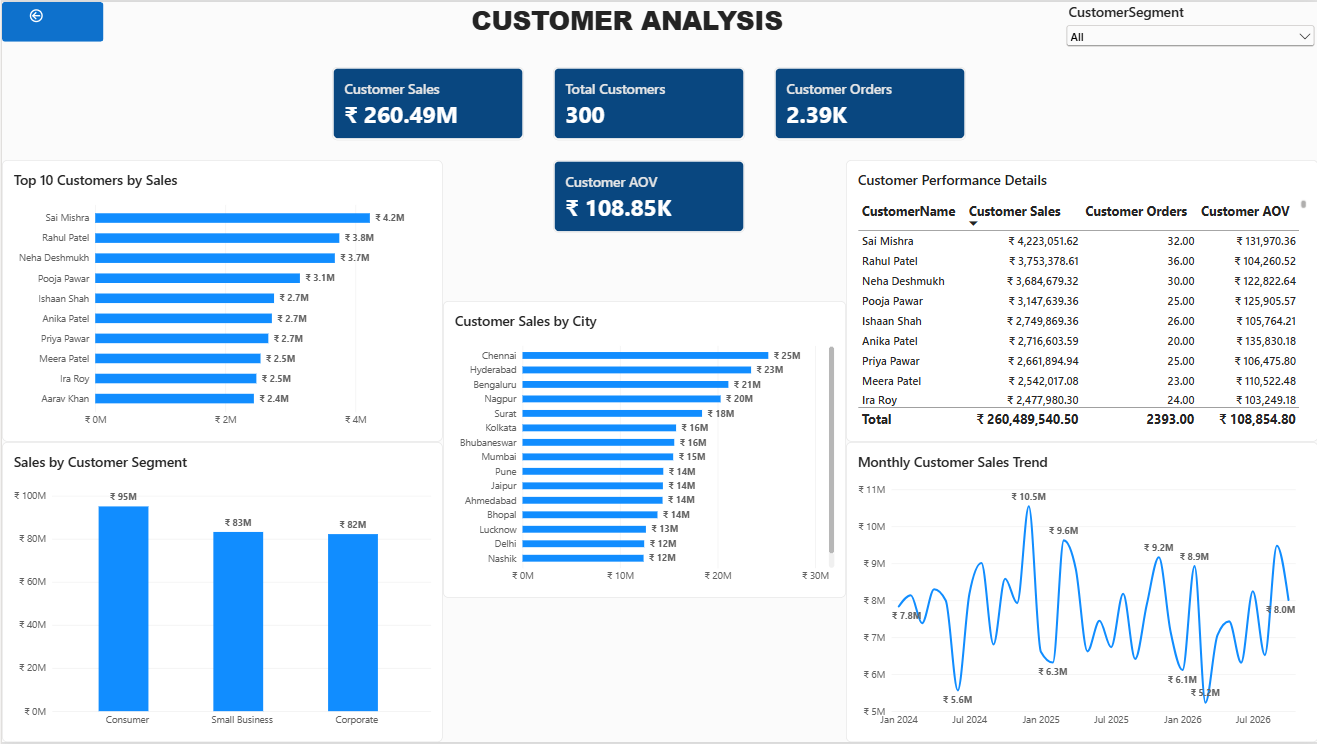

The page's visual inventory and layout, read from the dashboard file:
{"tool":"powerbi","page":{"name":"Customer Analysis","canvas":[1920,1080],"ordinal":2},"visuals":[{"type":"cardVisual","fields":{"Data":["Customers.Total Customers"]},"box":[803.9,94.8,280.1,106.5],"z":0},{"type":"cardVisual","fields":{"Data":["Customers.Customer Sales"]},"box":[481.5,94.8,280.1,106.5],"z":1000},{"type":"cardVisual","fields":{"Data":["Customers.Customer Orders"]},"box":[1126.3,94.8,280.1,106.5],"z":2000},{"type":"cardVisual","fields":{"Data":["Customers.Customer AOV"]},"box":[803.9,230.5,280.1,106],"z":3000},{"type":"clusteredBarChart","title":"Top 10 Customers by Sales","fields":{"Category":["Customers.CustomerName"],"Y":["Customers.Customer Sales"]},"box":[0,230.5,643.4,411.4],"z":4000},{"type":"tableEx","title":"Customer Performance Details","fields":{"Values":["Customers.CustomerName","Customers.Customer Sales","Customers.Customer Orders","Customers.Customer AOV"]},"box":[1231.4,230.5,688.6,411.4],"z":5000},{"type":"slicer","fields":{"Values":["Customers.CustomerSegment"]},"box":[1548,0,372,106.5],"z":6000},{"type":"clusteredColumnChart","title":"Sales by Customer Segment","fields":{"Category":["Customers.CustomerSegment"],"Y":["Customers.Customer Sales"]},"box":[0,641.9,643.4,437.7],"z":7000},{"type":"textbox","box":[621.5,0,580.7,54],"z":8000},{"type":"lineChart","title":"Monthly Customer Sales Trend","fields":{"Category":["Orders.OrderDate.Variation.Date Hierarchy.Year","Orders.OrderDate.Variation.Date Hierarchy.Quarter","Orders.OrderDate.Variation.Date Hierarchy.Month","Orders.OrderDate.Variation.Date Hierarchy.Day"],"Y":["Customers.Customer Sales"]},"box":[1231.4,641.9,688.6,437.7],"z":9000},{"type":"clusteredBarChart","title":"Customer Sales by City","fields":{"Category":["Customers.City"],"Y":["Customers.Customer Sales"]},"box":[643.4,436.2,588,433.3],"z":9001},{"type":"actionButton","box":[0,0,148,58],"z":9002},{"type":"actionButton","box":[0,0,100,40],"z":9003}]}

Visuals, with their boxes in screenshot pixels (x1, y1, x2, y2), scaled from the page's 1920x1080 canvas onto the 1317x744 screenshot:
cardVisual - Customers.Total Customers: (551, 65, 744, 139)
cardVisual - Customers.Customer Sales: (330, 65, 522, 139)
cardVisual - Customers.Customer Orders: (773, 65, 965, 139)
cardVisual - Customers.Customer AOV: (551, 159, 744, 232)
"Top 10 Customers by Sales" clusteredBarChart: (0, 159, 441, 442)
"Customer Performance Details" tableEx: (845, 159, 1316, 442)
slicer - Customers.CustomerSegment: (1062, 0, 1316, 73)
"Sales by Customer Segment" clusteredColumnChart: (0, 442, 441, 743)
textbox: (426, 0, 825, 37)
"Monthly Customer Sales Trend" lineChart: (845, 442, 1316, 743)
"Customer Sales by City" clusteredBarChart: (441, 300, 845, 599)
actionButton: (0, 0, 102, 40)
actionButton: (0, 0, 69, 28)
